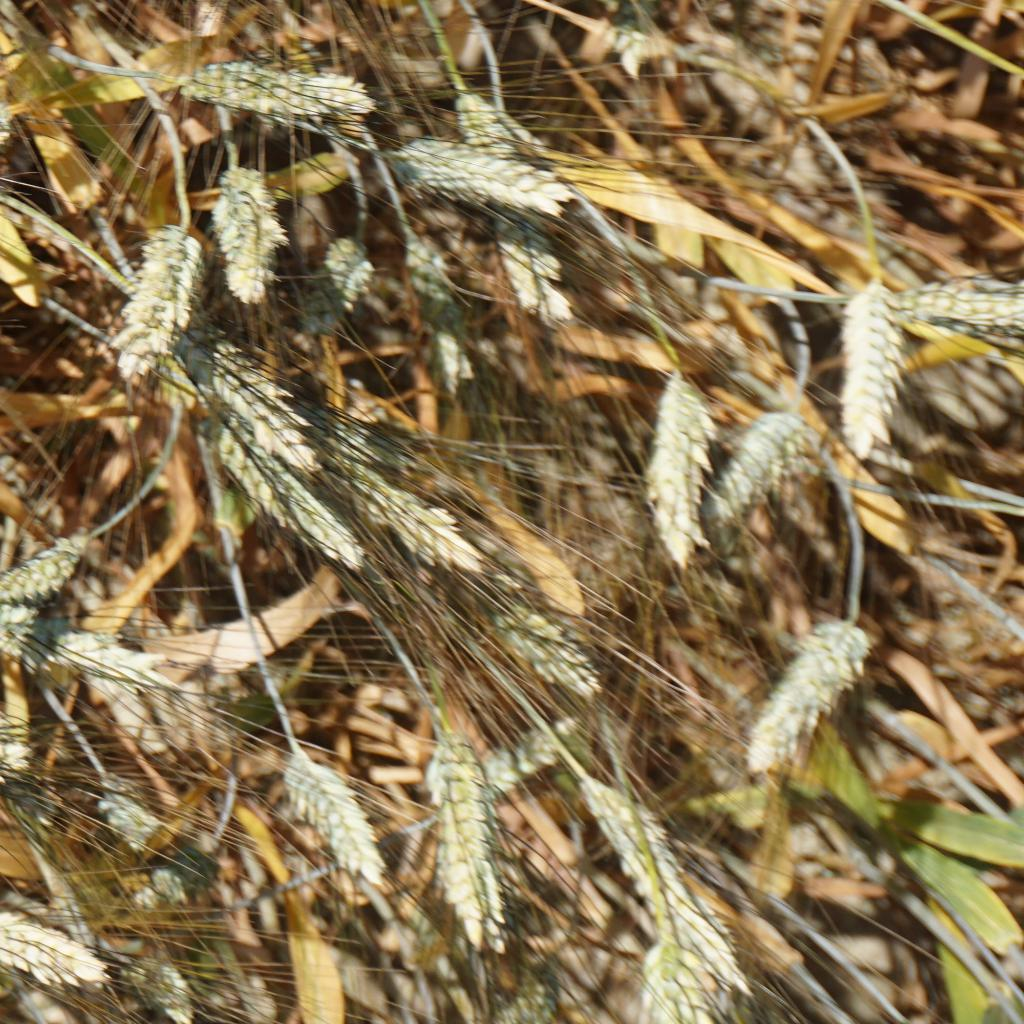0-0: (574, 776, 723, 941), (195, 412, 352, 559), (463, 93, 564, 309), (412, 723, 513, 925), (750, 604, 863, 778), (173, 315, 311, 457), (351, 467, 491, 583), (179, 56, 372, 139), (280, 747, 393, 884), (205, 141, 290, 304), (640, 367, 713, 541), (394, 238, 479, 384), (0, 610, 151, 690), (387, 133, 549, 207), (495, 595, 607, 694), (708, 399, 793, 529), (904, 259, 1024, 346), (841, 276, 901, 449), (110, 236, 192, 360), (0, 905, 109, 983), (0, 520, 95, 608), (464, 707, 571, 778), (101, 947, 205, 1019), (644, 933, 718, 1024), (314, 223, 378, 316), (0, 691, 48, 814), (476, 958, 552, 1024), (89, 787, 160, 849), (607, 0, 674, 55), (130, 861, 195, 905), (0, 694, 22, 791), (0, 94, 16, 158)
